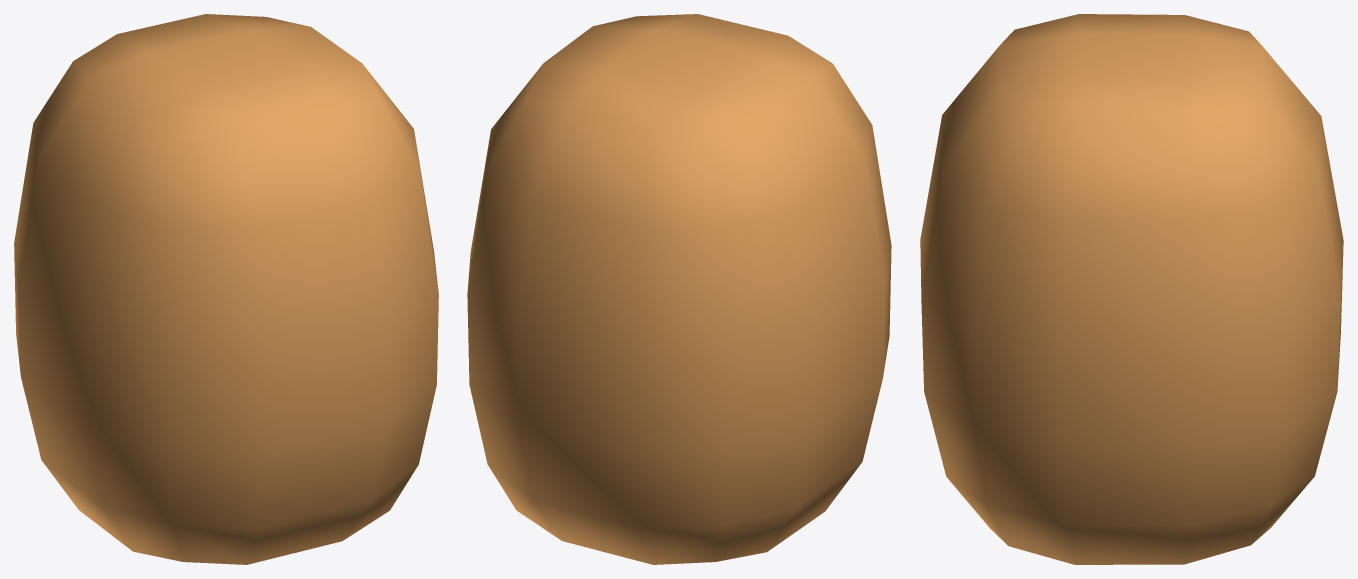
File: Bush_F_03_LOD2.gltf
3 views of the same model, side by side, from view 1: azimuth 30°, elevation 25°; view 2: azimuth 150°, elevation 25°; view 3: azimuth 270°, elevation 25° (orthographic).
Parts seen in each view (by area): view 1: Bush_F_03_LOD2_Cube.724; view 2: Bush_F_03_LOD2_Cube.724; view 3: Bush_F_03_LOD2_Cube.724.
Part boxes in pixels (x1,y1,x2,y2): Bush_F_03_LOD2_Cube.724: [14, 14, 438, 564]; Bush_F_03_LOD2_Cube.724: [467, 14, 891, 564]; Bush_F_03_LOD2_Cube.724: [920, 14, 1343, 564].
Size of the model in its own units: 4.45 by 5.62 by 4.62.
Materials: 1 (1 with a texture image).
